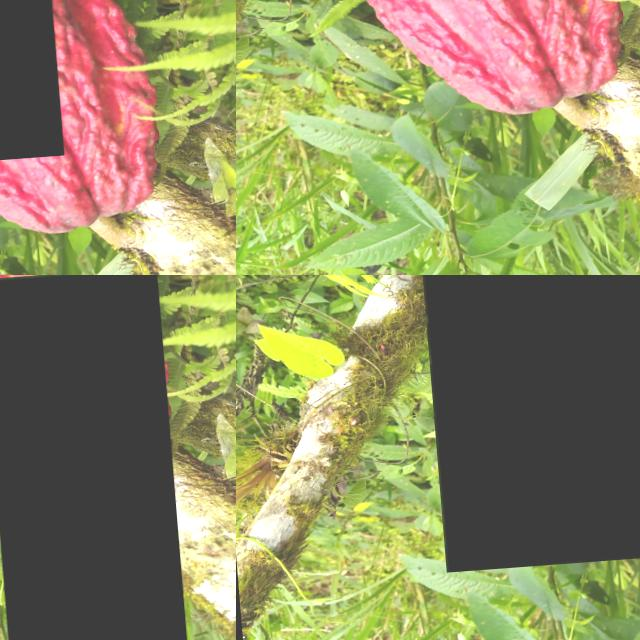Fitoftora: (0, 275, 177, 640)
Monilia: (0, 0, 57, 171)
Sana: (412, 275, 640, 575)
